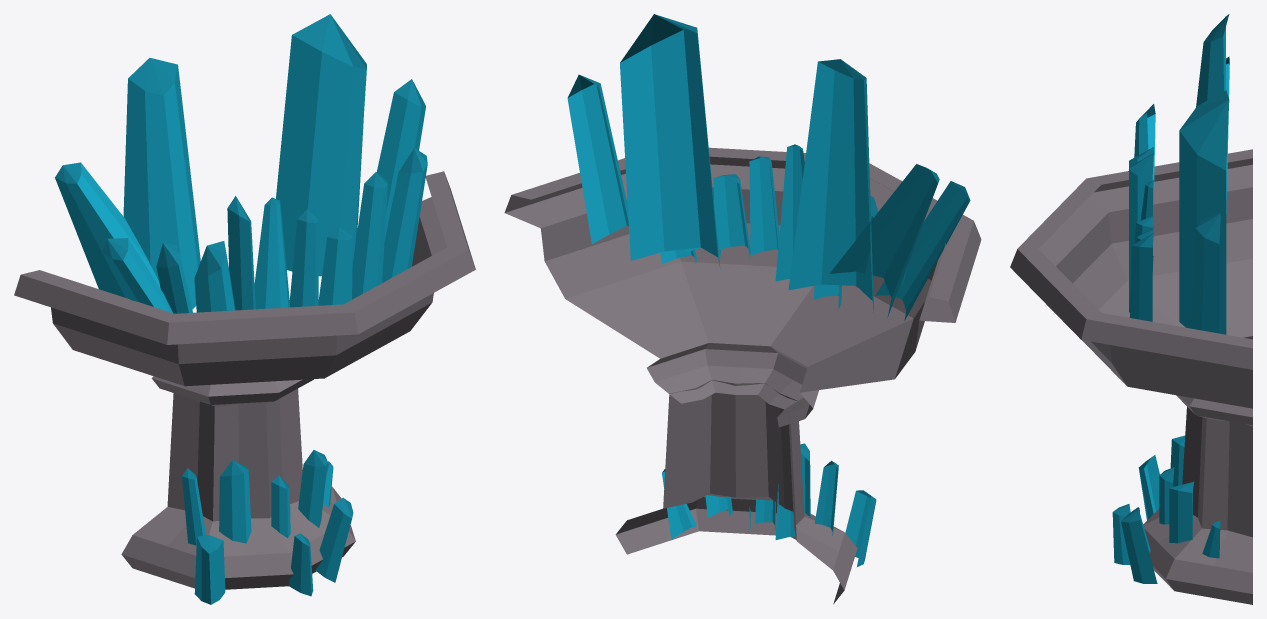
Rendered from CrystalBase.fbx.
3 renders of one model, left to right at view 1: azimuth 30°, elevation 25°; view 2: azimuth 150°, elevation 25°; view 3: azimuth 270°, elevation 25°, orthographic. The views are drawn at different scales.
Visible parts, largest first — view 1: Crystal Fountain; view 2: Crystal Fountain; view 3: Crystal Fountain.
Boxes of the visible parts, left/top/right/bottom form: Crystal Fountain: left=14, top=14, right=475, bottom=604; Crystal Fountain: left=504, top=14, right=981, bottom=604; Crystal Fountain: left=1010, top=14, right=1252, bottom=604.
Bounding box in the file's own units: 439 × 502 × 220.
